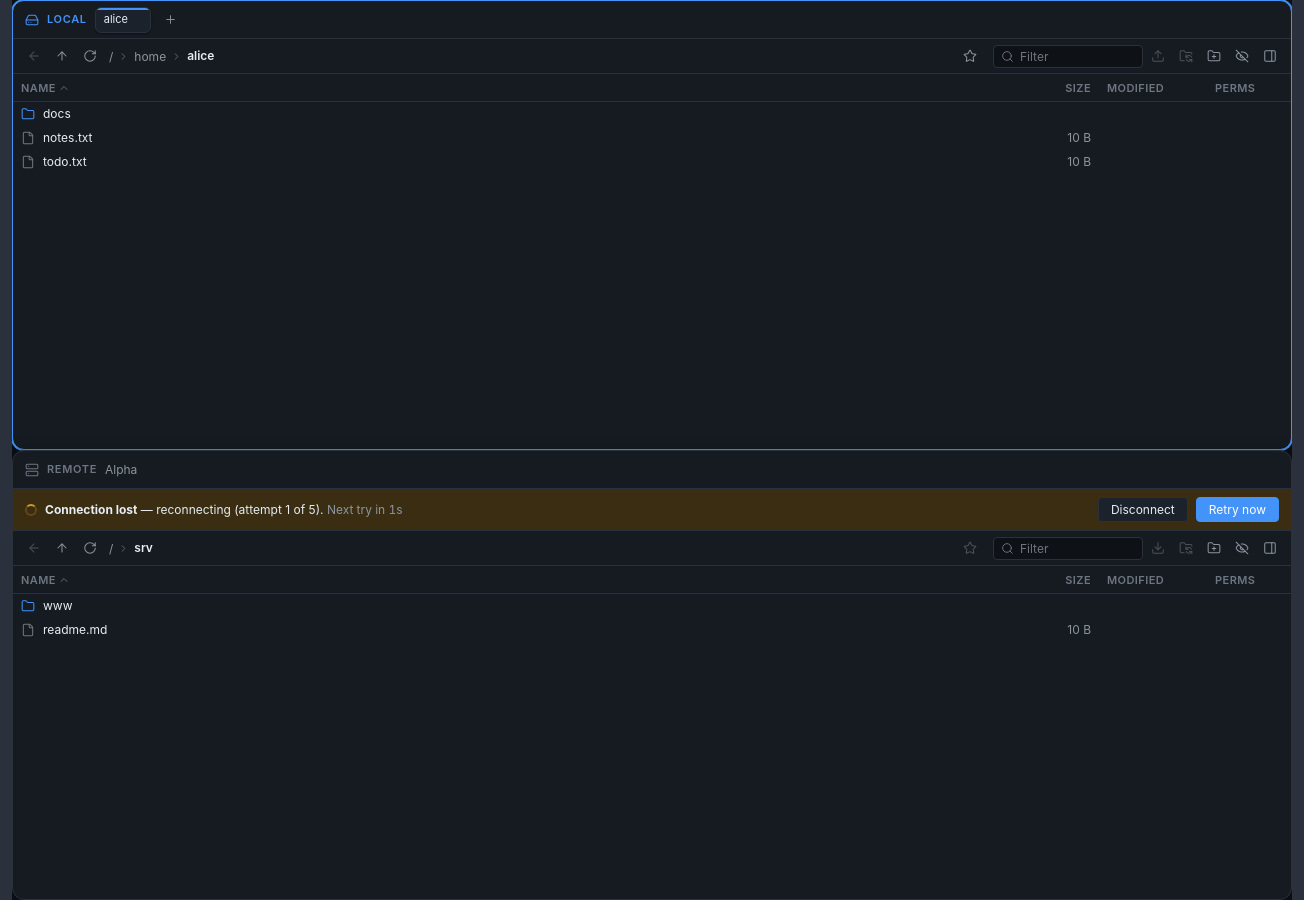
Pane › transfers › does not open for editing while the session reconnects
The image size is (1304, 900).
Double-click the text "readme.md" at (75, 630), box [43, 621, 107, 639]
Right-click the text "readme.md" at (75, 630), box [43, 621, 107, 639]
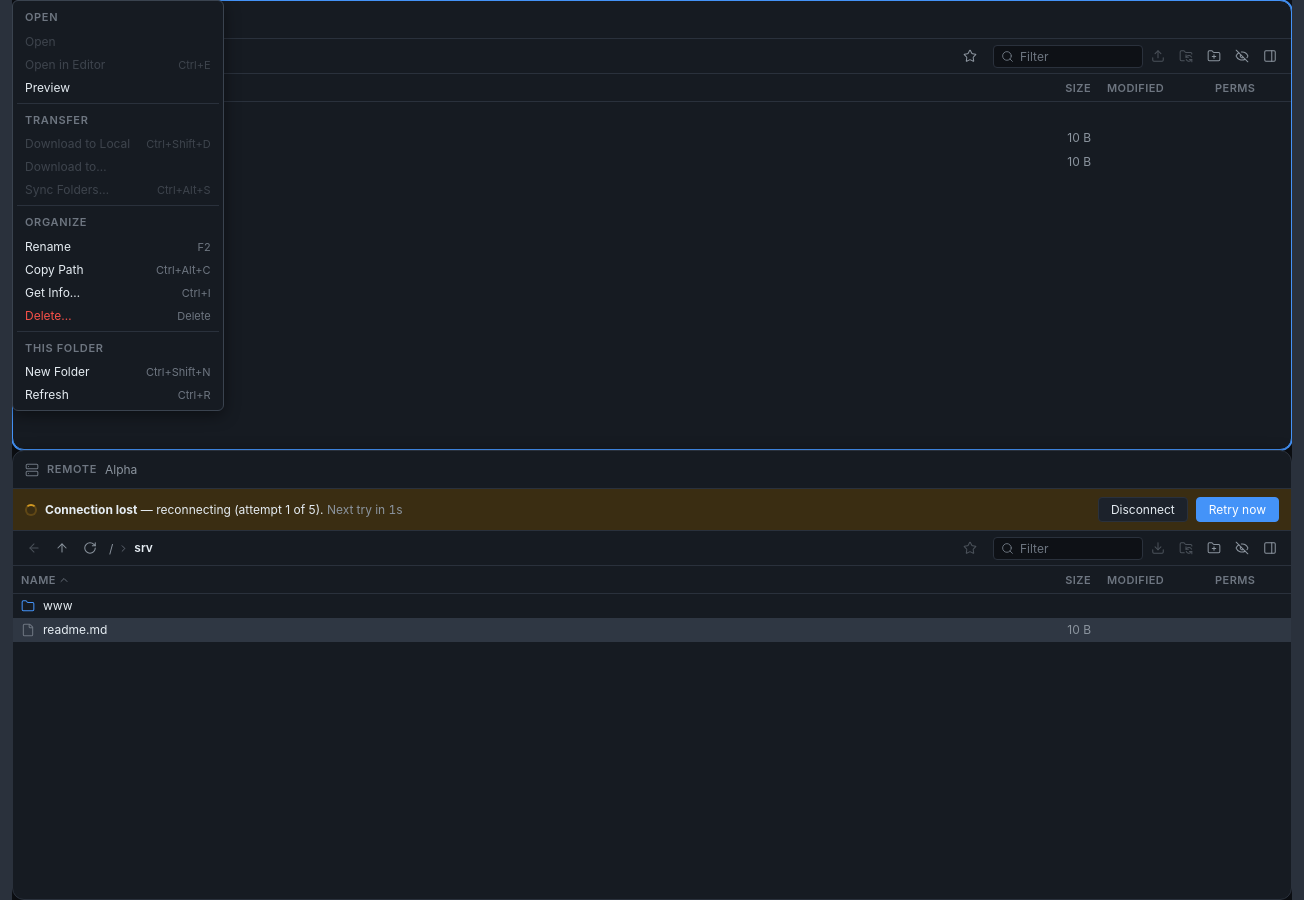
expect the menu item "Open in Editor Ctrl+E" is disabled: met, box [17, 52, 219, 76]
expect the menu item "Download to…" is disabled: met, box [17, 155, 219, 178]
